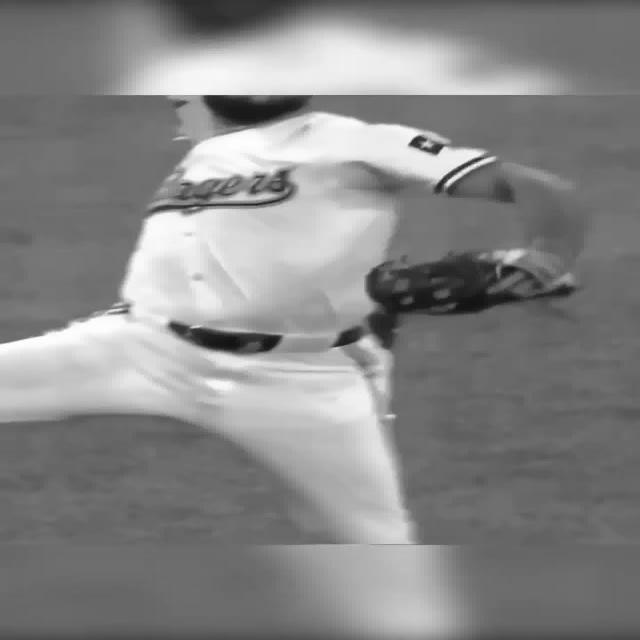baseball_glove: (363, 248, 573, 317)
